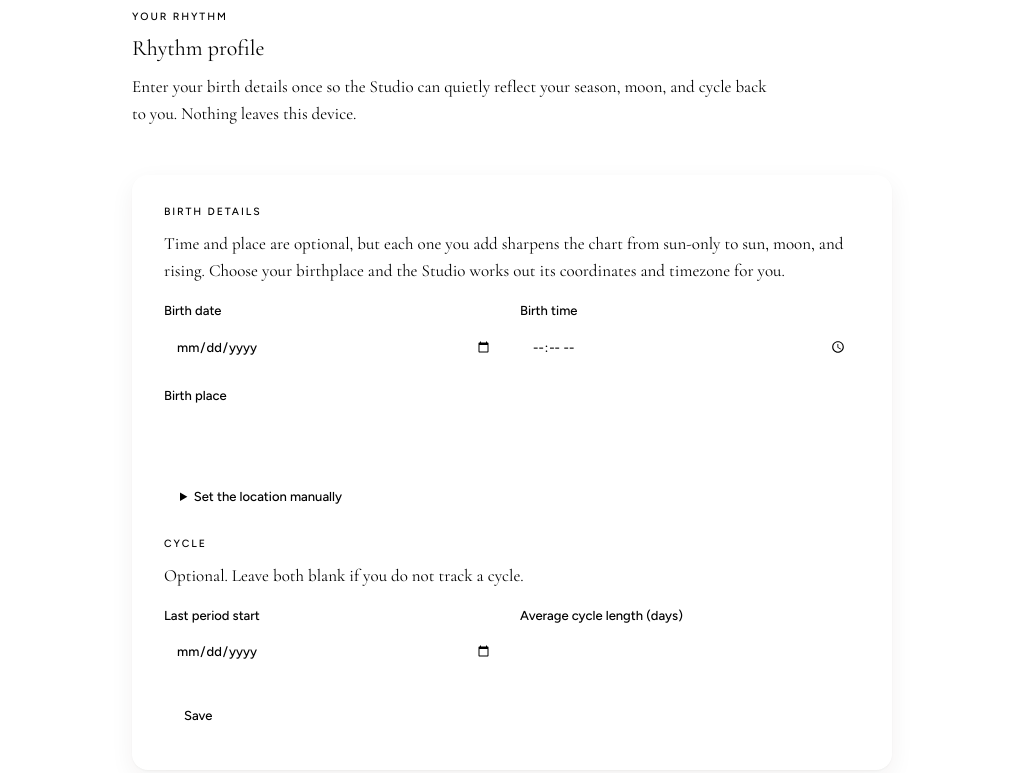
Test: falls back to a generic message when a save rejects without an Error
Click the button "Save": (198, 716) x1=164 y1=694 x2=232 y2=738
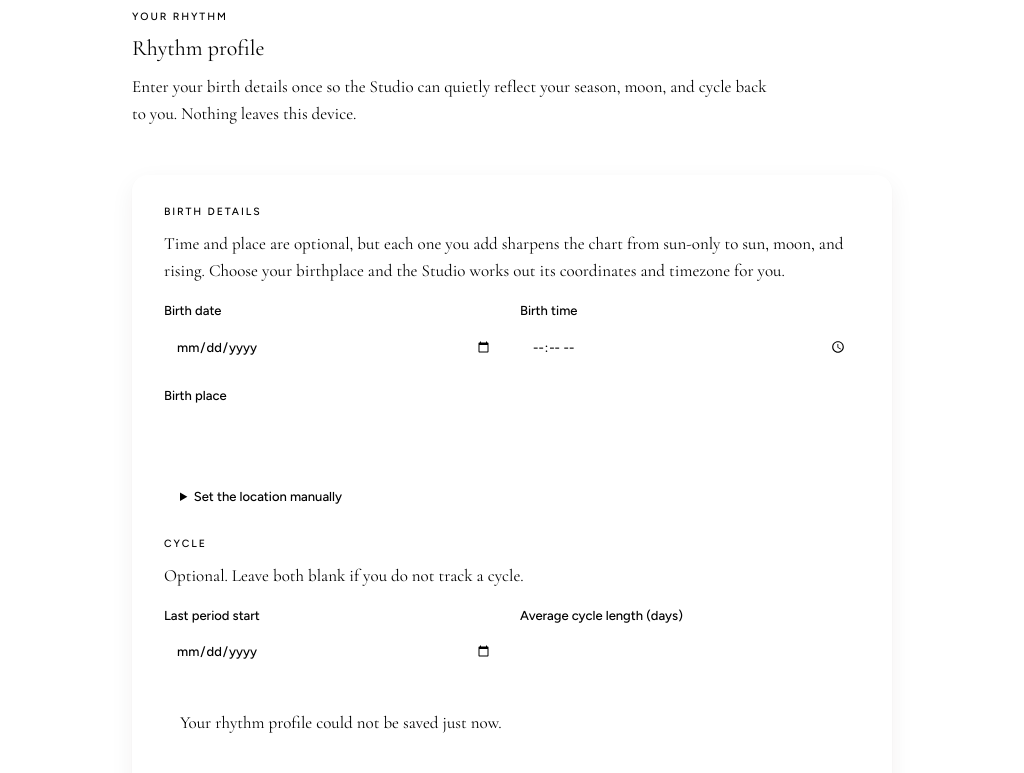
Result: the message reads "Your rhythm profile could not be saved just now." at x1=180 y1=712 x2=502 y2=733
